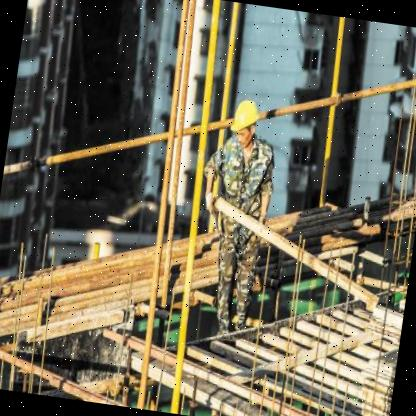capacete: (230, 96, 263, 140)
